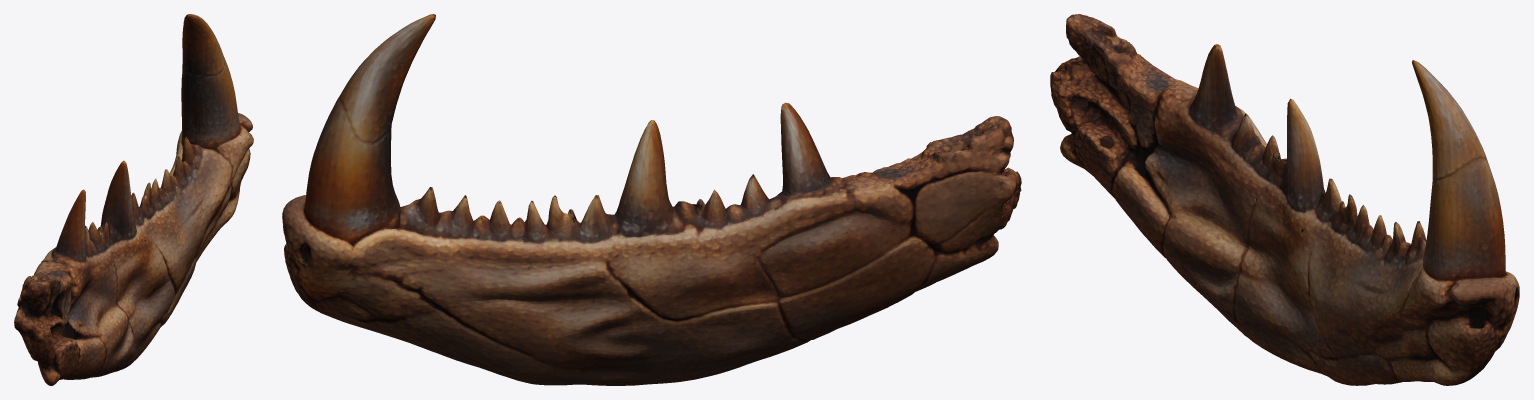
3 views of the same model, side by side, from view 1: azimuth 30°, elevation 25°; view 2: azimuth 150°, elevation 25°; view 3: azimuth 270°, elevation 25° (orthographic). The views are drawn at different scales.
Parts seen in each view (by area): view 1: world; view 2: world; view 3: world.
Boxes of the visible parts, x1,y1,x2,y2 form: world: (14,14,253,385); world: (282,14,1021,385); world: (1050,14,1519,385).
Size of the model in its own units: 0.9859 by 0.6897 by 0.8094.
1 material, 1 textured.
